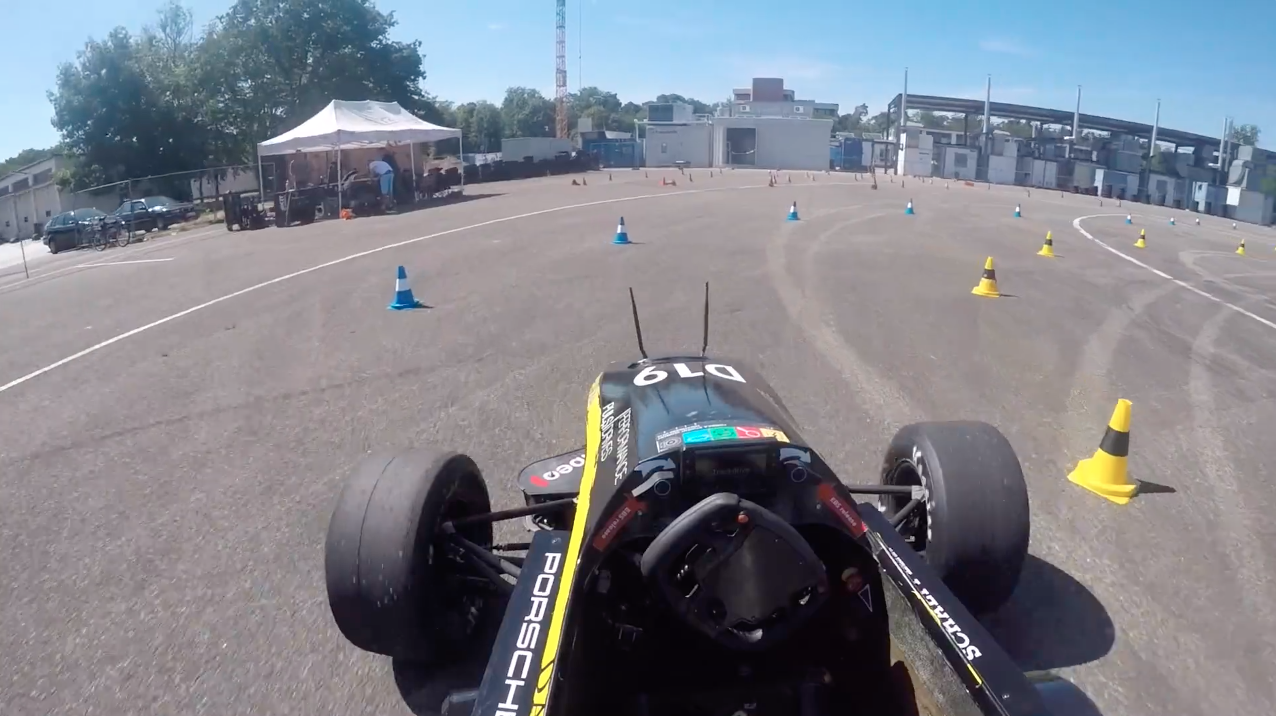lcone: (386, 265, 423, 314), (609, 213, 637, 247), (784, 197, 806, 225)
rcone: (1063, 393, 1155, 510), (970, 254, 1006, 304), (1037, 229, 1059, 260)
